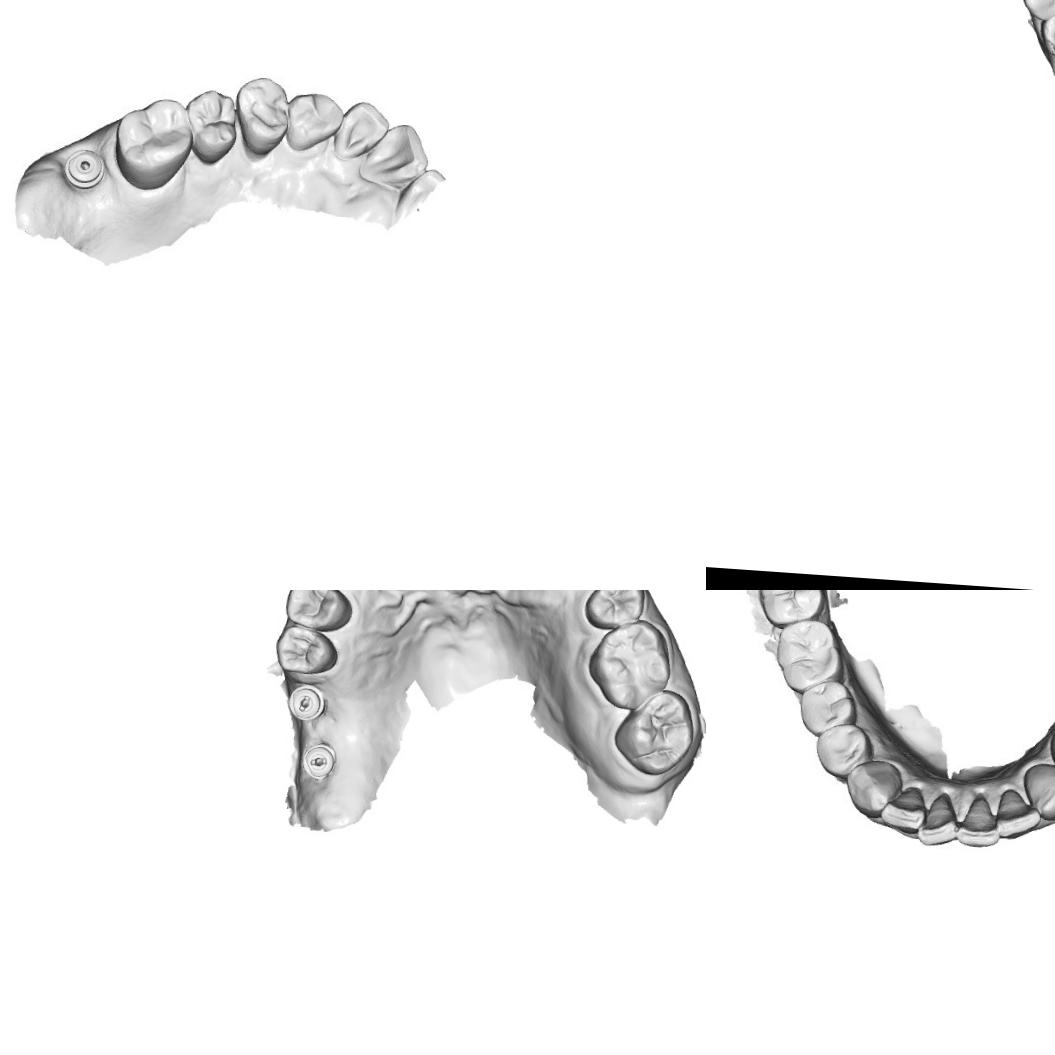canine: (282, 87, 346, 157), (838, 756, 902, 821), (1017, 758, 1055, 822)
implant: (55, 140, 110, 200)
implant_minus: (285, 684, 326, 723), (300, 744, 337, 781)
incisor: (356, 118, 432, 190), (333, 97, 391, 164), (876, 784, 930, 841), (914, 790, 960, 852), (994, 784, 1041, 842), (958, 792, 1002, 852)
molar: (583, 614, 678, 713), (611, 684, 700, 779), (112, 94, 194, 193), (771, 617, 850, 696), (755, 590, 824, 630)
premolar: (232, 70, 292, 154), (180, 84, 240, 166), (812, 718, 875, 782), (795, 674, 857, 738), (270, 623, 338, 678), (281, 590, 355, 633), (580, 590, 646, 633), (1037, 3, 1055, 63)
